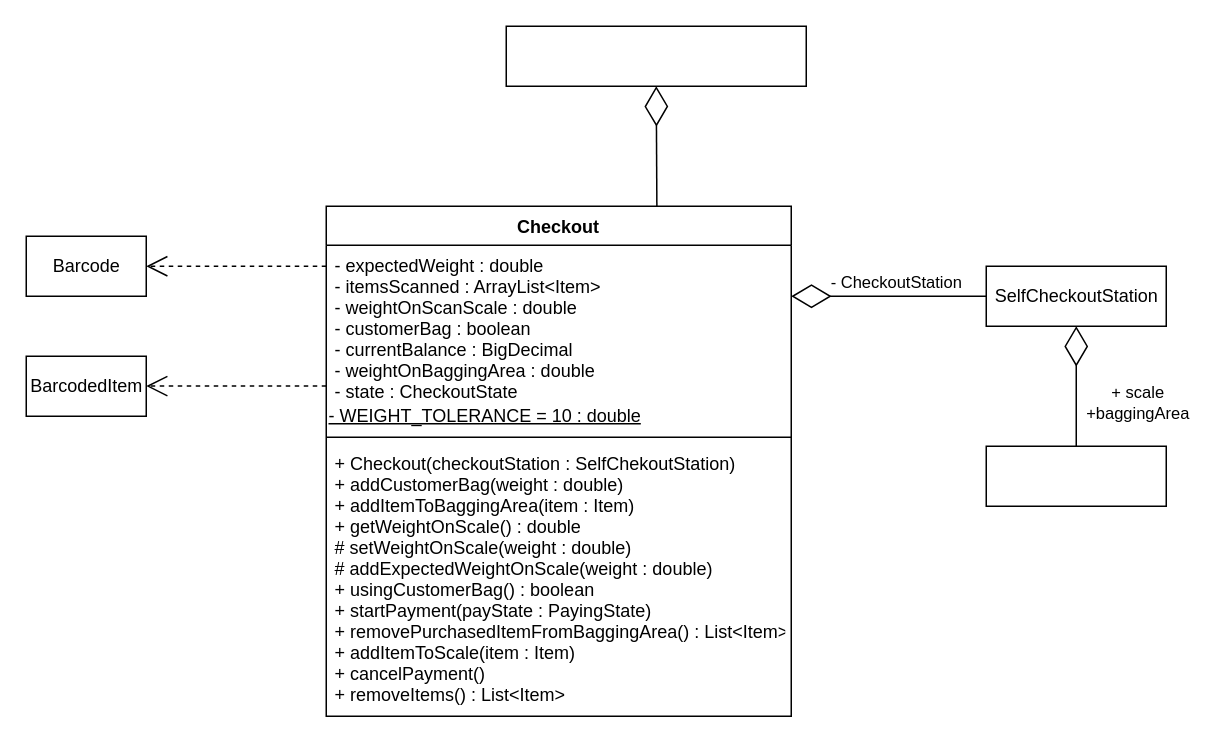
The diagram is 1215 pixels wide and 747 high, and some of its shapes have lost their labels. Each missing label, with the centre of its shape:
BaggingAreaWeightUpdateListener: the point at 655,55
Eelectronic Scale: the point at 1075,475
